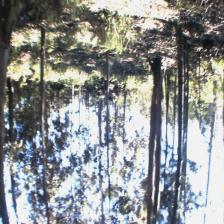trunktrack_idkeyframe: (148, 58, 164, 172), (177, 33, 184, 155), (40, 30, 46, 145)
